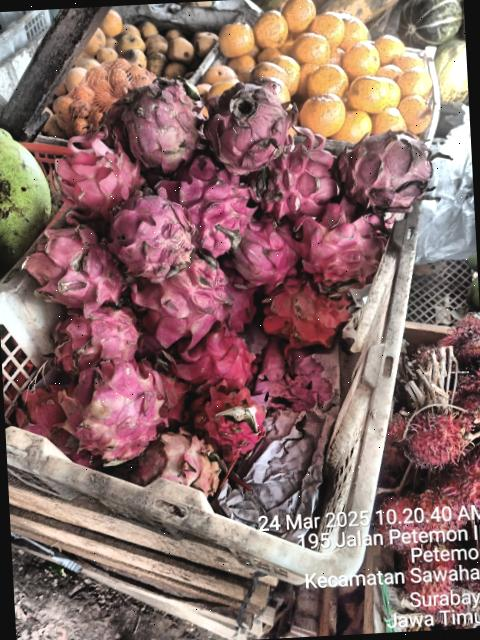buah-naga-belum-matang: (57, 357, 163, 468), (133, 435, 231, 508)
buah-naga-matang: (330, 124, 458, 218), (195, 77, 296, 168), (118, 74, 211, 169), (59, 139, 154, 229), (39, 302, 149, 377), (296, 202, 381, 296), (173, 159, 259, 251), (104, 194, 196, 279), (125, 266, 233, 338), (24, 222, 118, 304), (258, 275, 360, 350), (256, 136, 336, 220), (222, 214, 302, 296), (169, 322, 258, 381), (196, 389, 272, 456)
